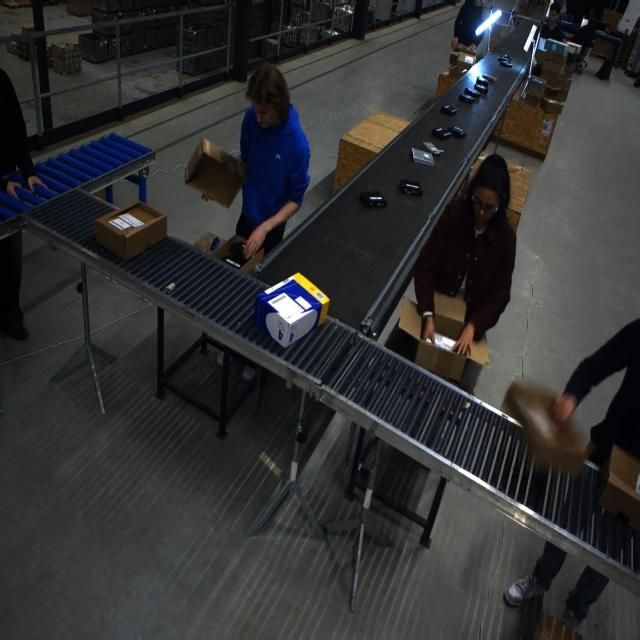box: (396, 293, 485, 386), (501, 383, 590, 475), (253, 272, 326, 348), (183, 136, 248, 208), (94, 201, 167, 261), (597, 442, 639, 531), (194, 232, 264, 278), (537, 47, 567, 71), (524, 76, 545, 94), (542, 78, 563, 94)
product: (359, 191, 386, 209), (411, 147, 434, 165), (399, 179, 422, 196), (422, 141, 443, 155), (431, 127, 451, 139), (449, 126, 467, 139), (440, 105, 458, 115), (464, 87, 480, 98), (458, 93, 474, 103), (476, 76, 489, 88), (481, 74, 497, 82), (498, 54, 512, 62), (498, 61, 512, 67)
